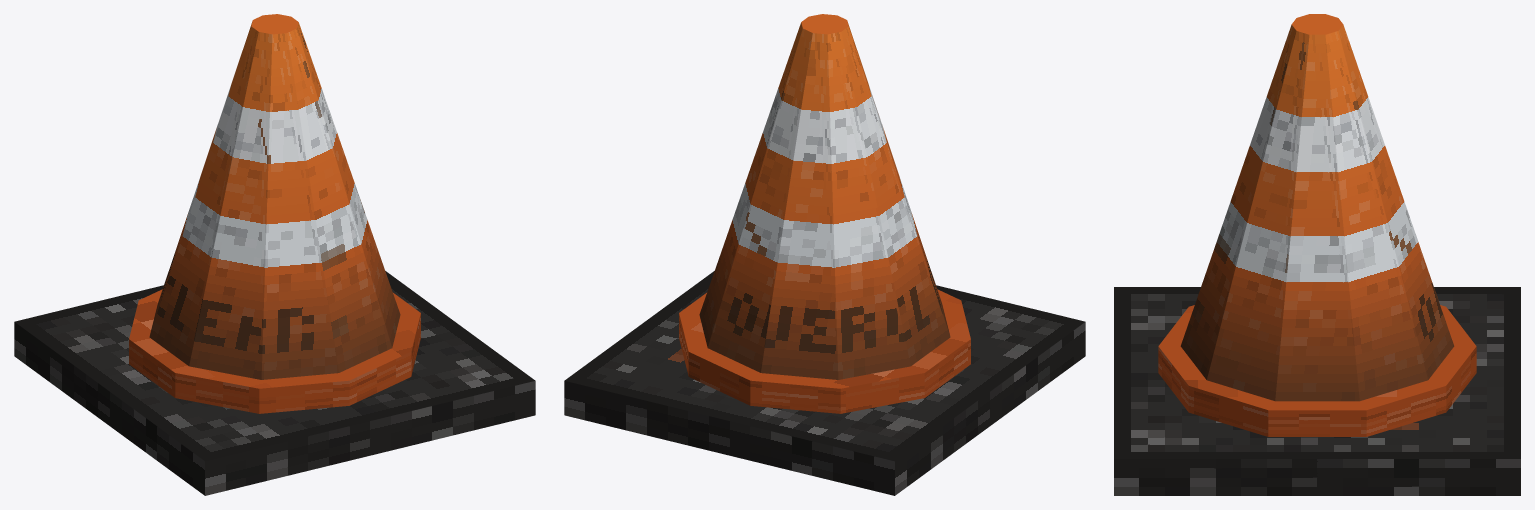
File: traffic_cone.glb
3 views of the same model, side by side, from view 1: azimuth 30°, elevation 25°; view 2: azimuth 150°, elevation 25°; view 3: azimuth 270°, elevation 25° (orthographic). The views are drawn at different scales.
Parts seen in each view (by area): view 1: Cone; view 2: Cone; view 3: Cone.
Boxes of the visible parts, x1,y1,x2,y2 form: Cone: (14, 14, 535, 495); Cone: (564, 14, 1085, 495); Cone: (1114, 14, 1520, 495).
Bounding box in the file's own units: 0.6875 × 0.7188 × 0.6875.
Materials: 1 (1 with a texture image).
